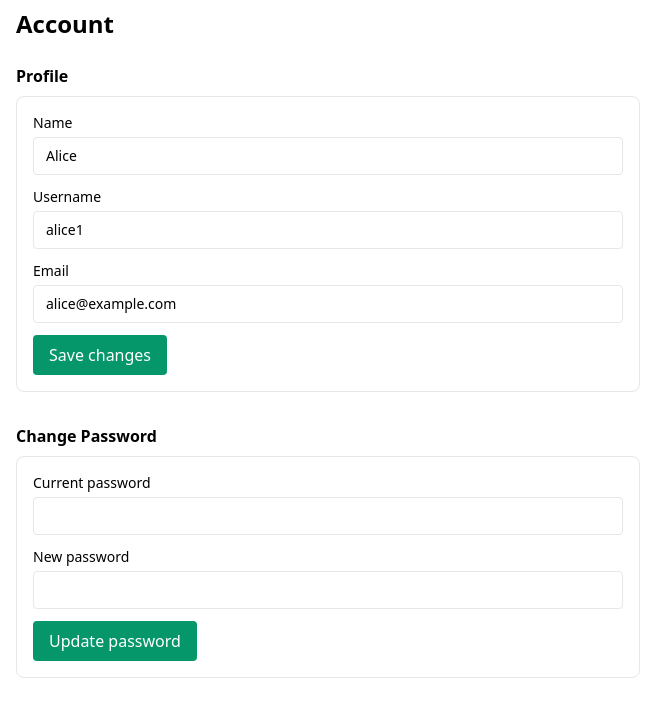
Test: AccountPage - profile › submits edited fields and shows a success message
The width and height of the screenshot is (657, 727).
Replace the text in the field labelled "Name" with "Alicia" at point(328, 156), box [33,137,623,175]
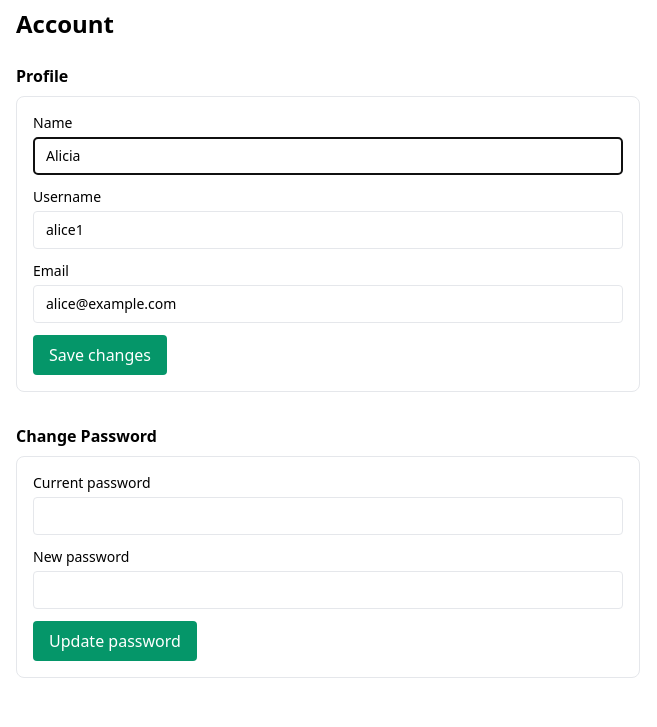
Click the button "Save changes" at point(100, 355), box [33,335,167,375]
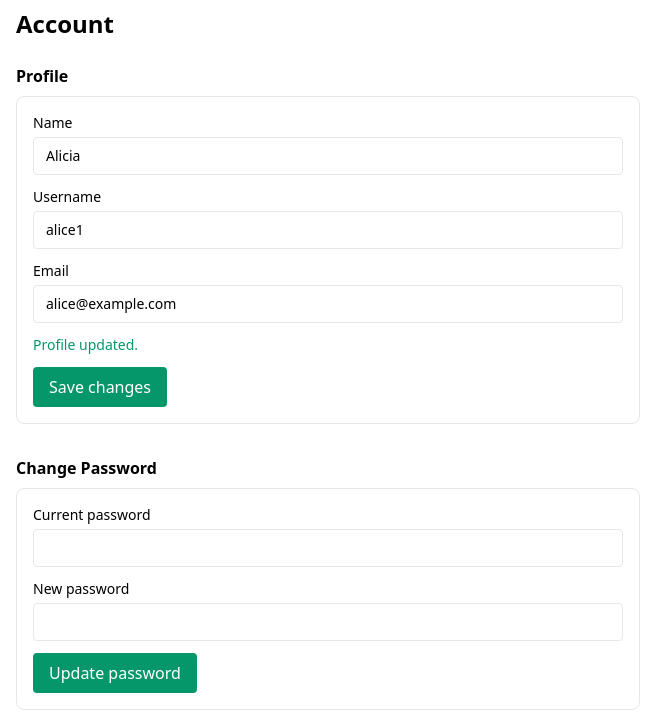
Expected: the text "Profile updated." is shown, [33,335,138,354]
